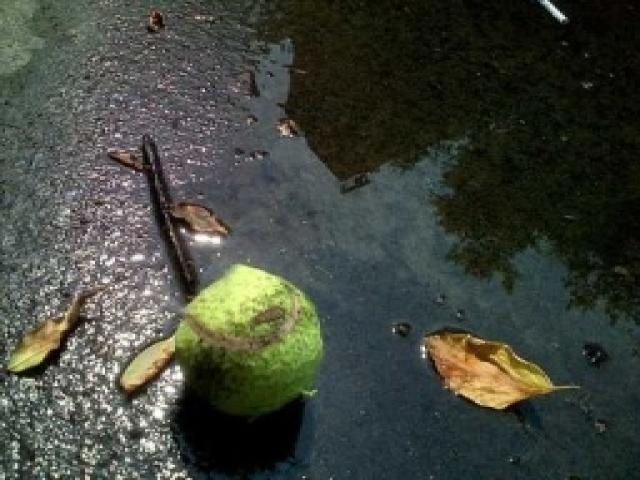tennis-ball: (178, 266, 324, 420)
